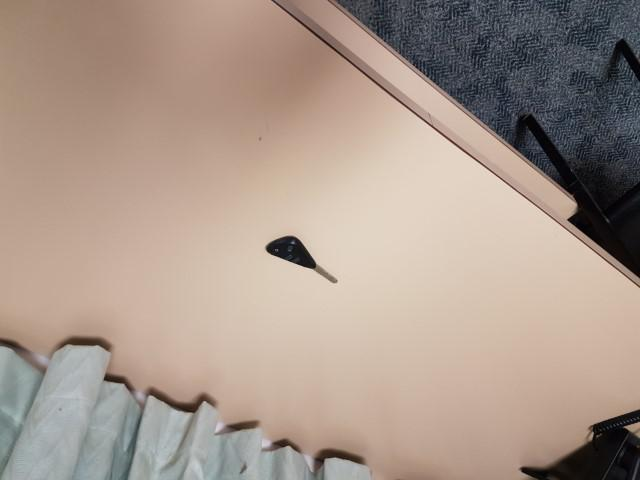key: (266, 236, 338, 284)
